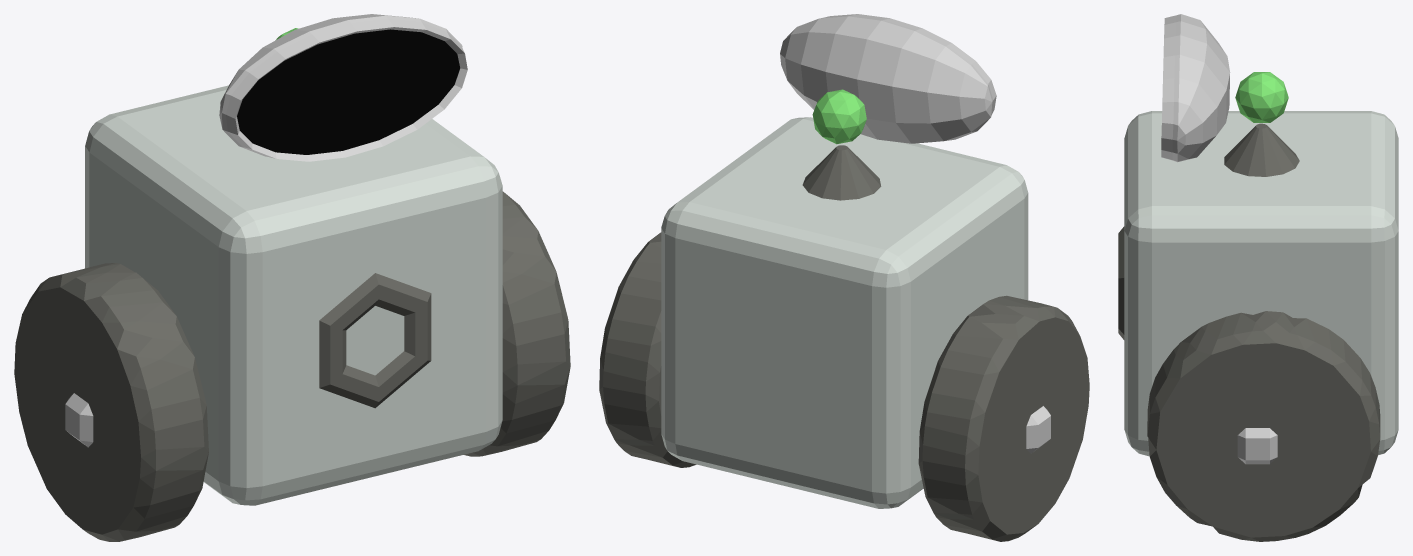
Rendered from Robot_test 2.fbx.
3 renders of one model, left to right at view 1: azimuth 30°, elevation 25°; view 2: azimuth 150°, elevation 25°; view 3: azimuth 270°, elevation 25°, orthographic. The views are drawn at different scales.
Parts seen in each view (by area): view 1: 立方体, 立方体.003, 球.002, 立方体.001, Torus.002, 球.001, 立方体.002; view 2: 立方体, 立方体.003, 球.001, 立方体.001, 円錐, ICO球, 立方体.002; view 3: 立方体, 立方体.001, 球.001, 円錐, ICO球, 立方体.004, Torus.002.
Boxes of the visible parts, x1,y1,x2,y2 form: 立方体: [85, 85, 502, 505]; 立方体.003: [14, 263, 208, 541]; 球.002: [237, 29, 460, 154]; 立方体.001: [464, 191, 570, 456]; Torus.002: [319, 273, 431, 408]; 球.001: [219, 14, 467, 161]; 立方体.002: [65, 393, 93, 447]; 立方体: [661, 117, 1028, 508]; 立方体.003: [918, 295, 1089, 541]; 球.001: [780, 14, 996, 143]; 立方体.001: [599, 232, 696, 467]; 円錐: [802, 145, 881, 200]; ICO球: [812, 89, 866, 144]; 立方体.002: [1026, 406, 1050, 453]; 立方体: [1124, 111, 1398, 456]; 立方体.001: [1147, 311, 1380, 541]; 球.001: [1161, 14, 1230, 162]; 円錐: [1224, 123, 1299, 176]; ICO球: [1235, 72, 1288, 122]; 立方体.004: [1237, 428, 1277, 464]; Torus.002: [1118, 226, 1124, 339].
Size of the model in its own units: 141 by 150 by 90.03.
